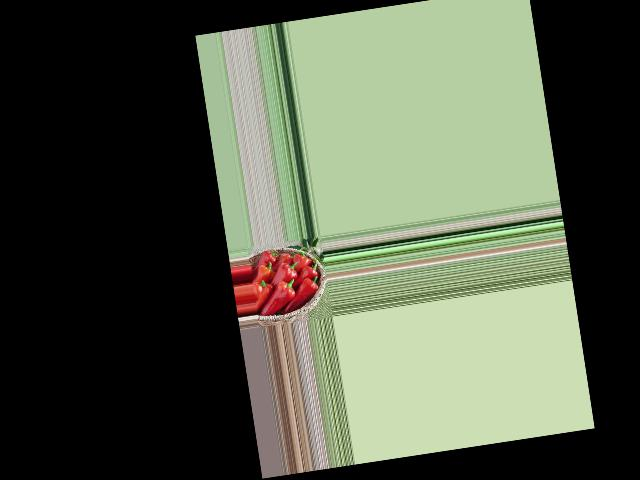bell_pepper: (298, 261, 321, 281)
